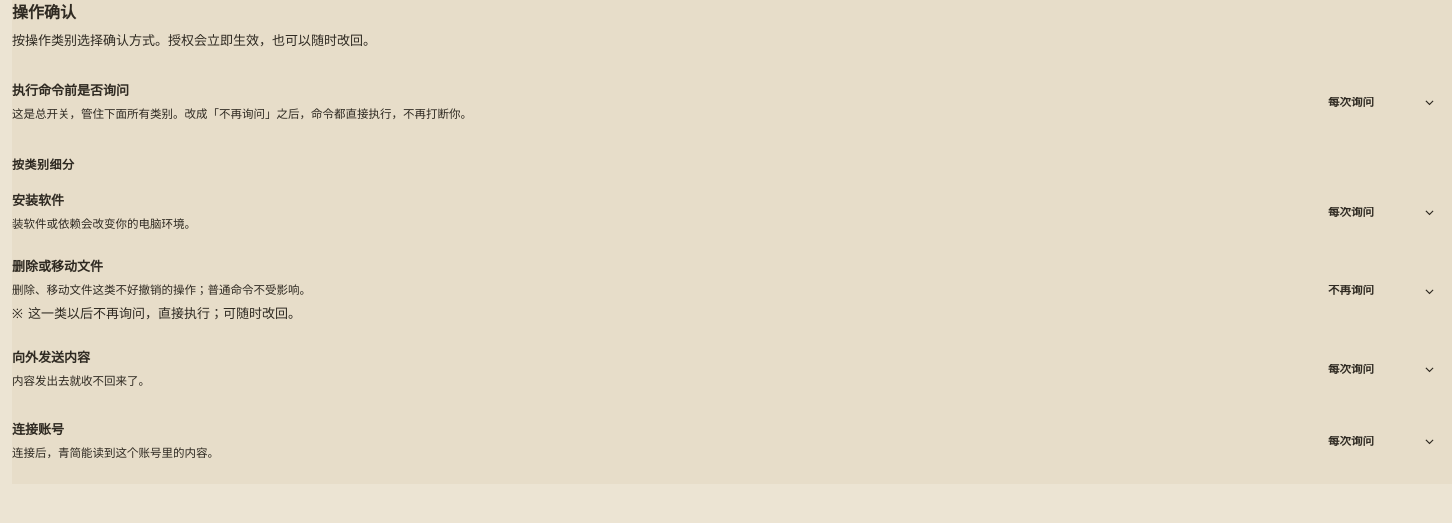
Test case: SecurityPanel › 向外发送内容 也能选不再询问并按既有通道落盘
Click the dropdown labelled "每次询问" in the row of "内容发出去就收不回来了。" at (1382, 370), box [1318,354,1446,386]
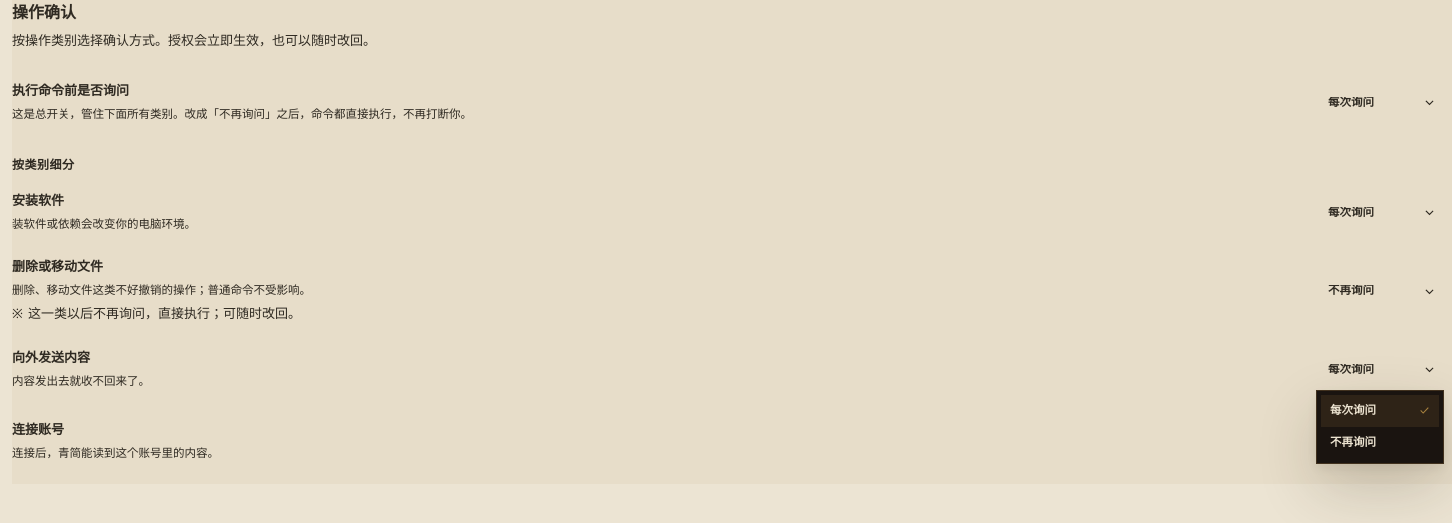
Expected: the option "不再询问" is shown
Click the option "不再询问" at (1380, 443), box [1321,427,1439,459]
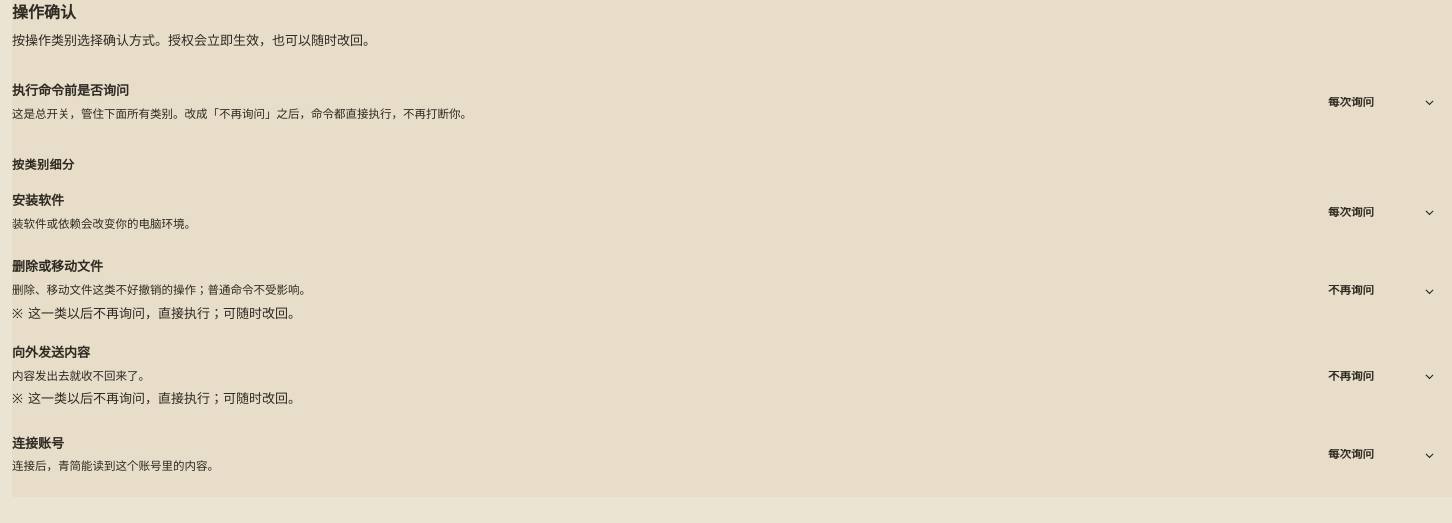
Expected: the dropdown labelled "不再询问" in the row of "内容发出去就收不回来了。" is shown, [1318,360,1446,392]
Expected: the text "这一类以后不再询问，直接执行；可随时改回。" below "内容发出去就收不回来了。" is shown, [28,391,301,406]
